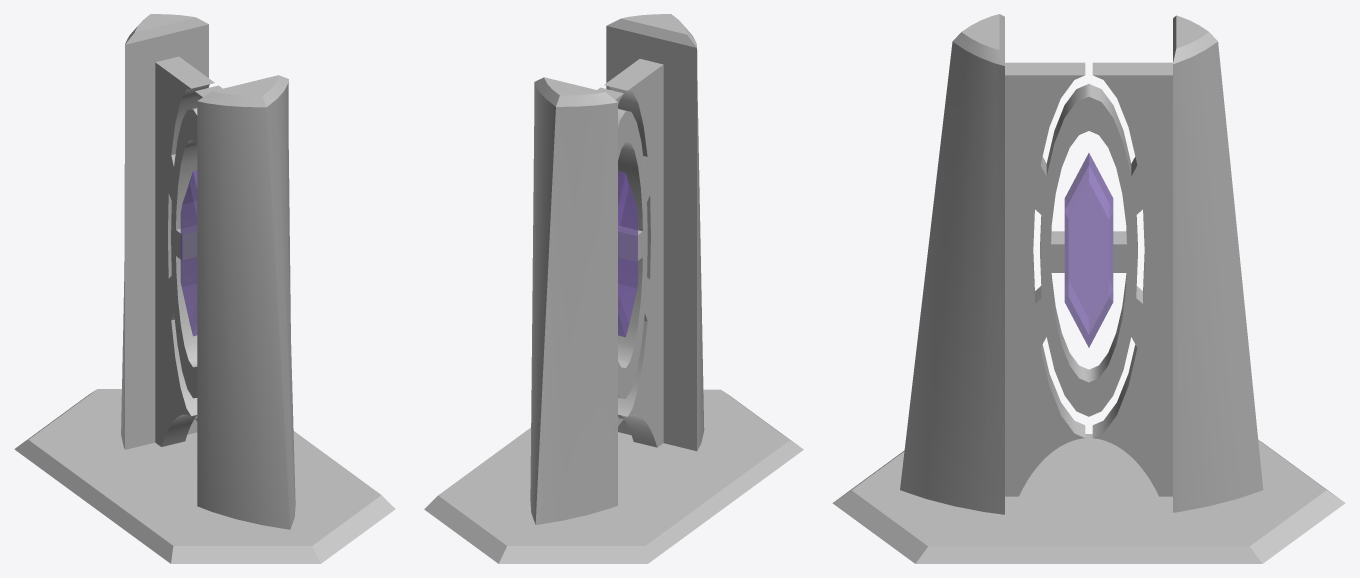
The model's file is Obelisk_Stone_Crystal_01.fbx.
3 renders of one model, left to right at view 1: azimuth 30°, elevation 25°; view 2: azimuth 150°, elevation 25°; view 3: azimuth 270°, elevation 25°, orthographic. The views are drawn at different scales.
Parts seen in each view (by area): view 1: Model; view 2: Model; view 3: Model.
Boxes of the visible parts, x1,y1,x2,y2 form: Model: (14, 14, 395, 563); Model: (424, 14, 803, 563); Model: (832, 14, 1345, 563).
Bounding box in the file's own units: 595 × 1076 × 1062.
